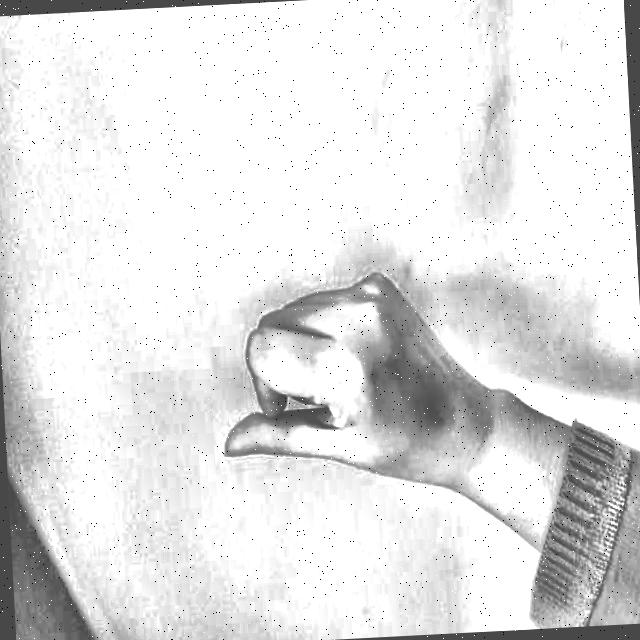Ay: (192, 237, 472, 544)
